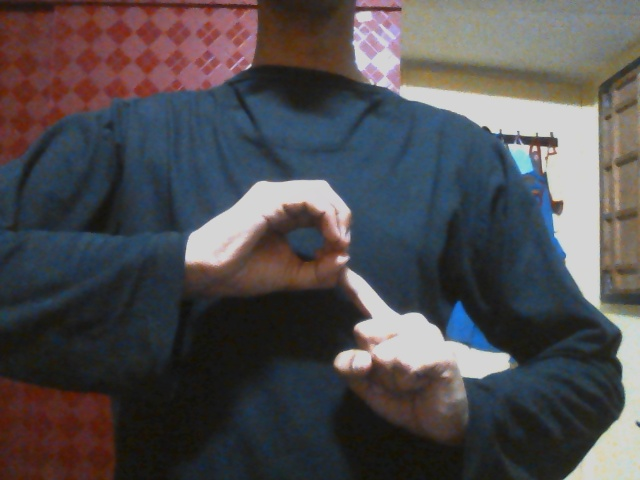Q: (196, 178, 459, 440)
